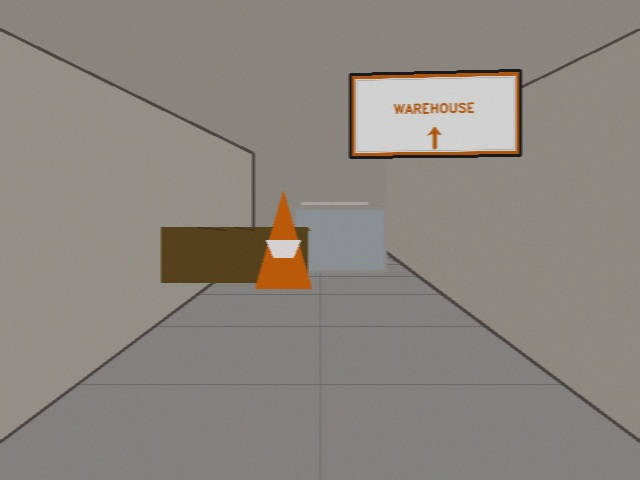directional_sign: (350, 70, 520, 157)
hospital_bed: (294, 208, 385, 271)
obstacle: (255, 191, 311, 288)
pallet: (161, 227, 310, 282)
